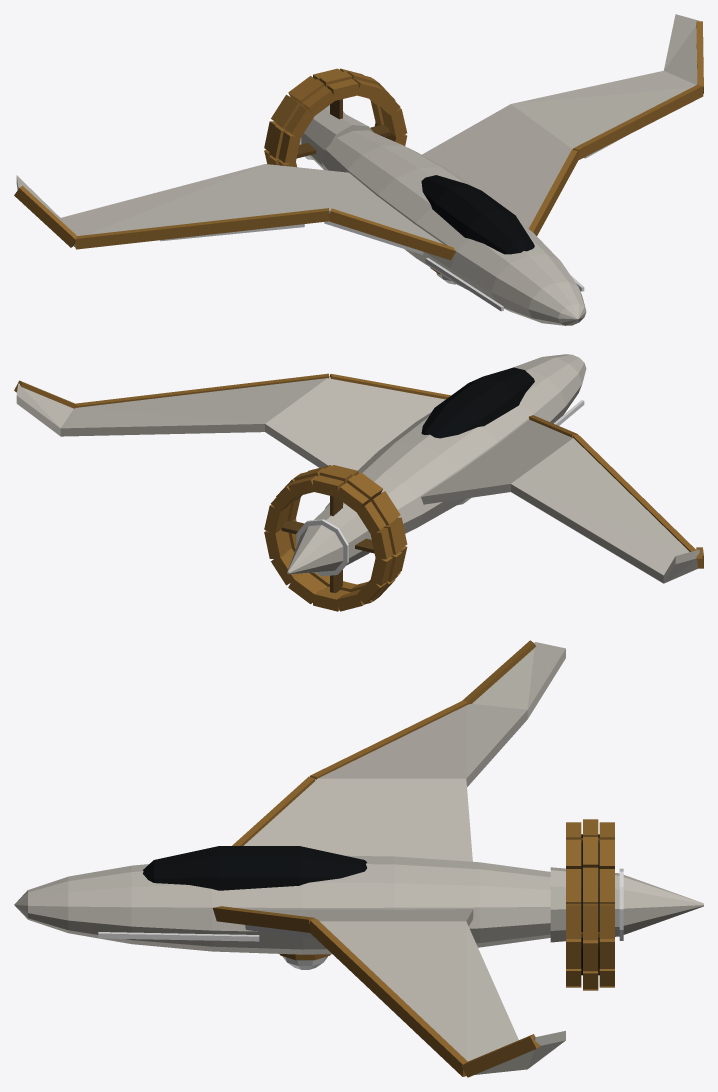
Rendered from spotter.glb.
The picture shows the model from 3 angles, top to bottom: view 1: azimuth 30°, elevation 25°; view 2: azimuth 150°, elevation 25°; view 3: azimuth 270°, elevation 25°; orthographic projection. The views are drawn at different scales.
Parts seen in each view (by area): view 1: body; view 2: body; view 3: body.
Part boxes in pixels (x1,y1,x2,y2): body: (14, 14, 703, 325); body: (14, 354, 703, 611); body: (14, 640, 703, 1077).
Size of the model in its own units: 12.33 by 2.23 by 9.
